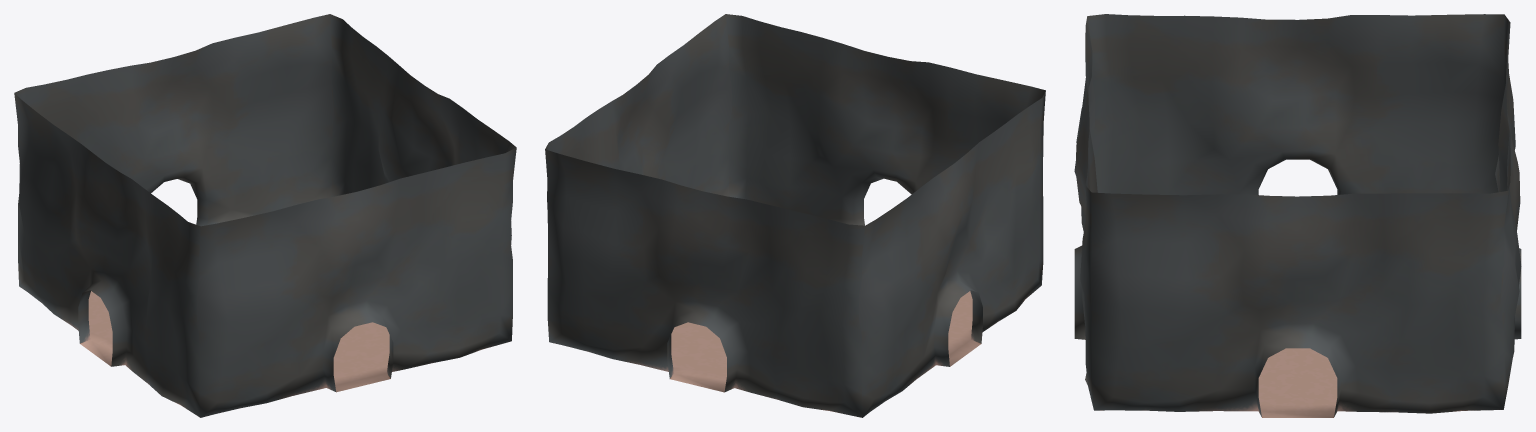
The model's file is AbyssMeshAllSides.fbx.
3 renders of one model, left to right at view 1: azimuth 30°, elevation 25°; view 2: azimuth 150°, elevation 25°; view 3: azimuth 270°, elevation 25°, orthographic. The views are drawn at different scales.
Parts seen in each view (by area): view 1: RoomMeshLRTB; view 2: RoomMeshLRTB; view 3: RoomMeshLRTB.
Part boxes in pixels (x1,y1,x2,y2): RoomMeshLRTB: [14, 14, 516, 417]; RoomMeshLRTB: [545, 14, 1045, 417]; RoomMeshLRTB: [1074, 14, 1521, 417].
Bounding box in the file's own units: 1602 × 871 × 1602.
